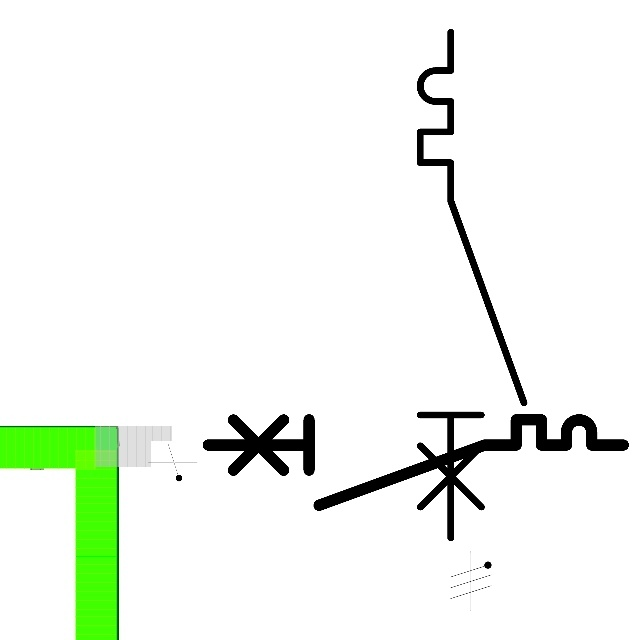interruptor_termomagnetico: (407, 19, 537, 551), (197, 409, 634, 516)
